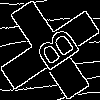B: (25, 25, 82, 79)
